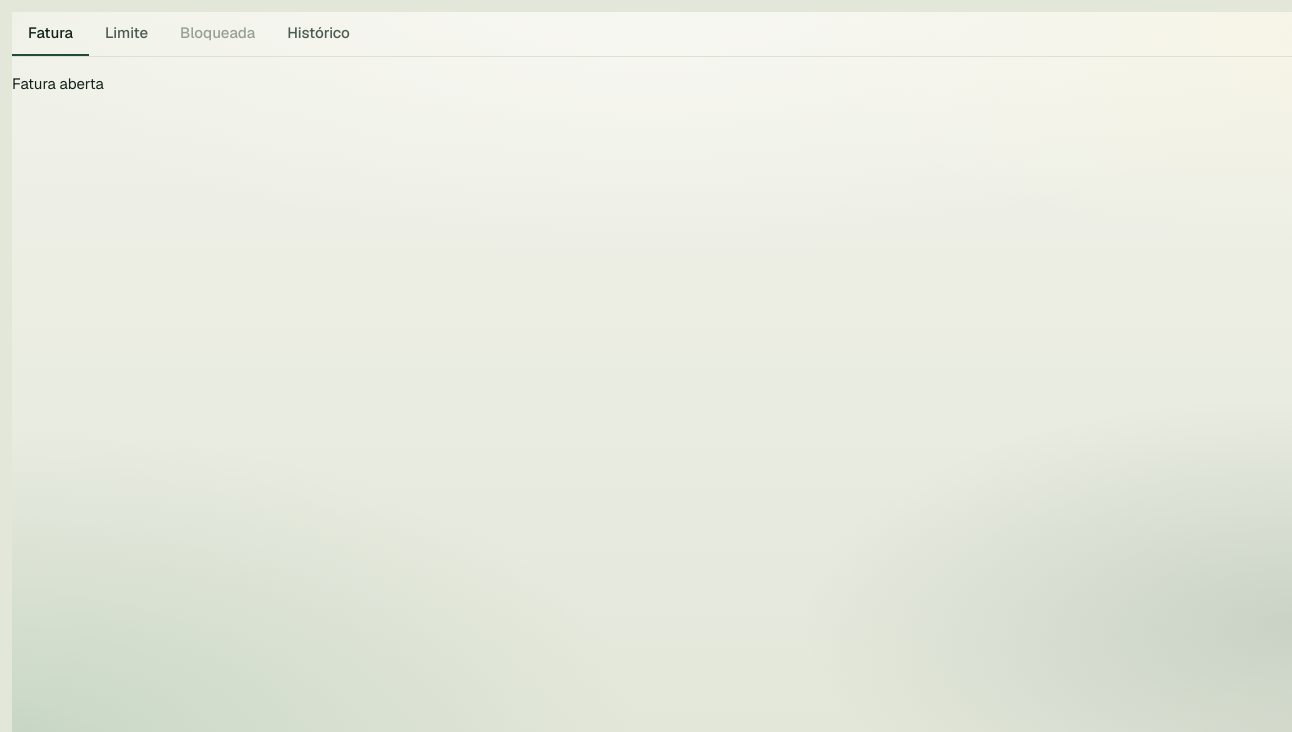
Test: TabsComponent › Dado o clique, então abre a aba, atualiza [(active)] e monta o painel
This screenshot has width=1292, height=732.
Click the tab "Limite" at (127, 34), box [89,12,164,56]
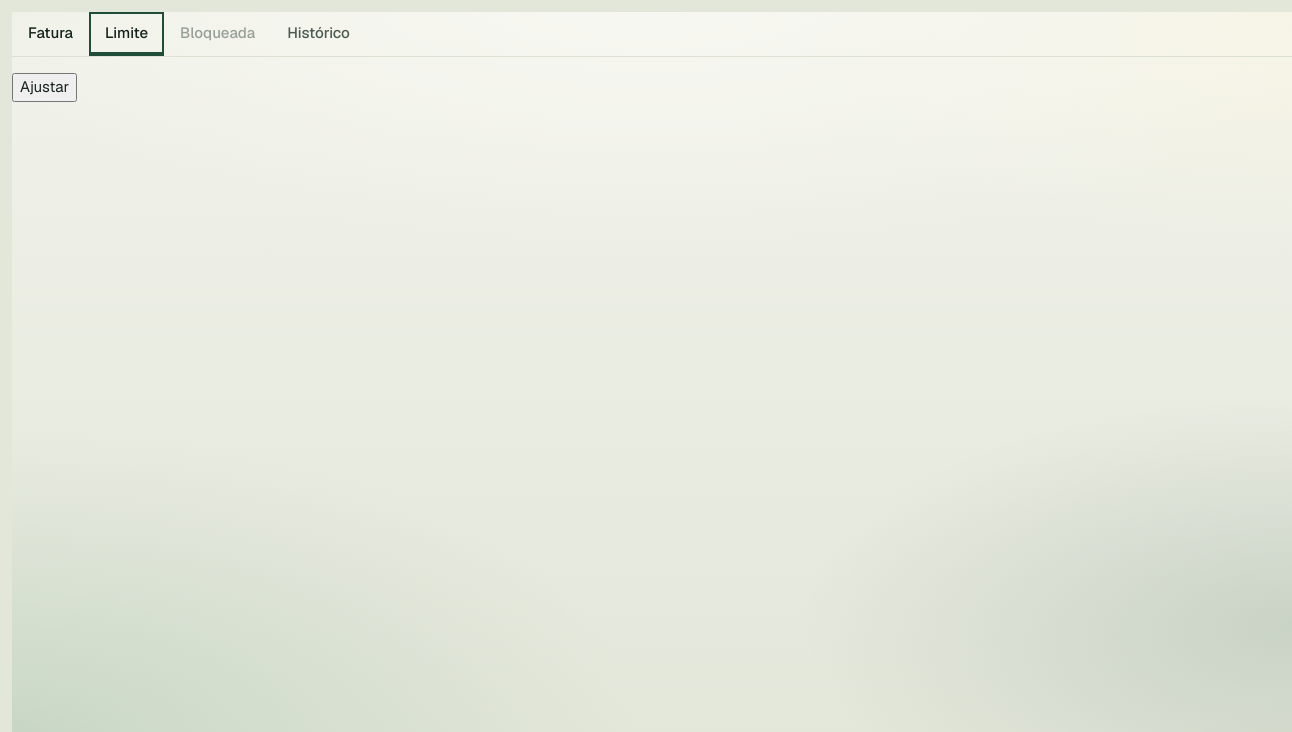
Expected: the panel named "Limite" is shown, [12,73,77,102]
Expected: the text "Fatura aberta" is gone
